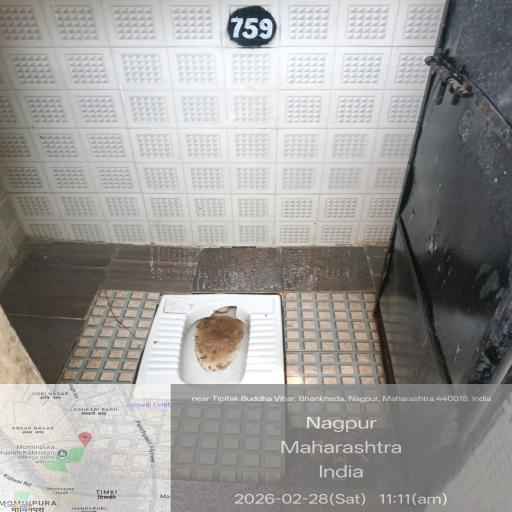clean_floor: (10, 19, 507, 256)
dirty_indian: (131, 290, 332, 470)
